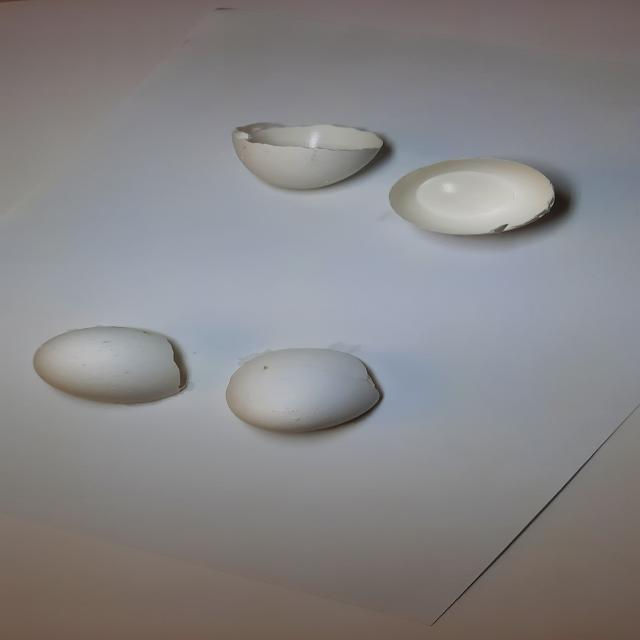egg shell: (213, 338, 393, 438), (381, 152, 571, 244), (19, 316, 197, 412), (216, 114, 396, 198)
